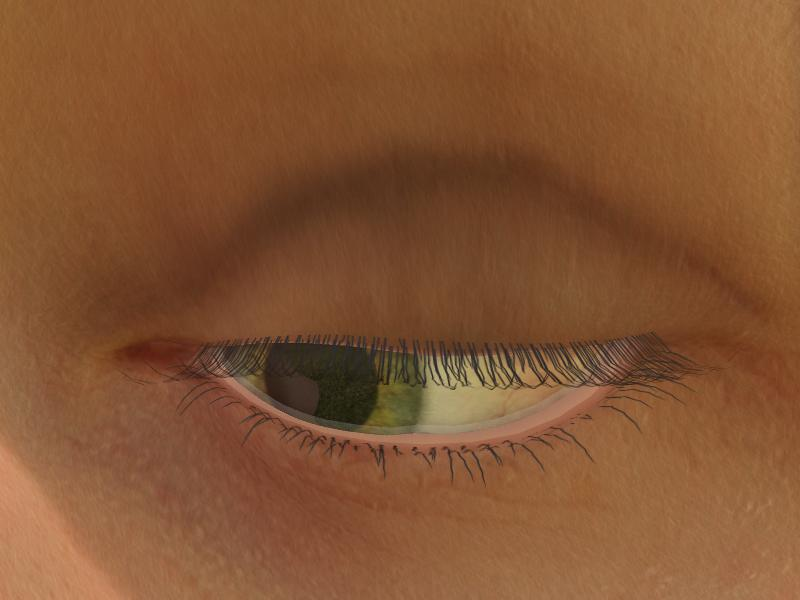eye: (223, 339, 427, 442)
